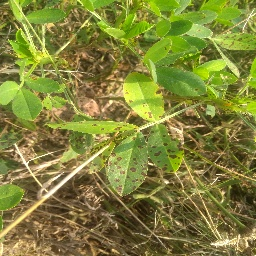GroundNut_Leaf: (109, 138, 150, 197), (122, 70, 165, 121), (1, 79, 45, 122), (153, 124, 185, 178), (157, 9, 219, 35), (103, 16, 153, 40), (49, 121, 139, 134), (194, 59, 235, 83), (214, 33, 256, 55), (141, 37, 172, 65), (1, 183, 26, 211), (23, 9, 66, 23)
